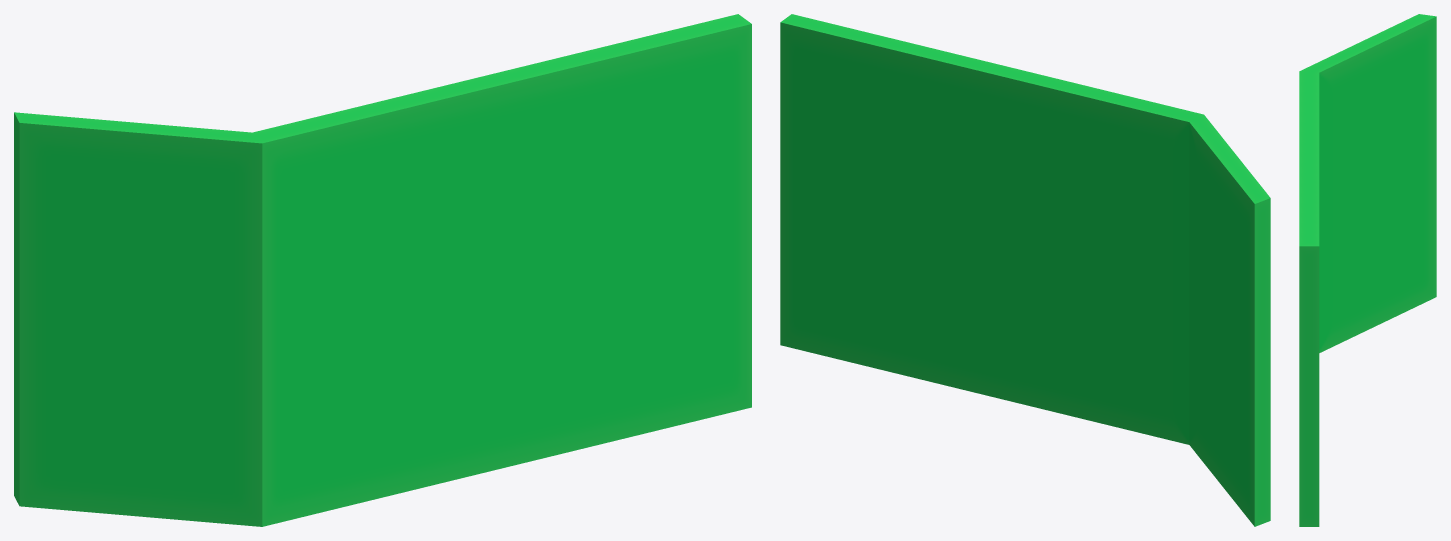
Rendered from 切胶板.glb.
3 renders of one model, left to right at view 1: azimuth 30°, elevation 25°; view 2: azimuth 150°, elevation 25°; view 3: azimuth 270°, elevation 25°, orthographic. The views are drawn at different scales.
Parts seen in each view (by area): view 1: 切胶板; view 2: 切胶板; view 3: 切胶板.
Boxes of the visible parts, x1,y1,x2,y2 form: 切胶板: (14,14,751,526); 切胶板: (780,14,1270,526); 切胶板: (1299,14,1436,526).
Size of the model in its own units: 0.0848 by 0.0478 by 0.0212.
1 material, 1 textured.
